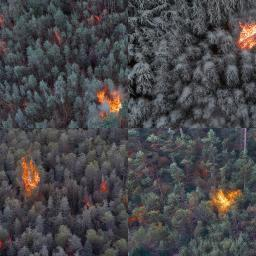Small fire: (207, 178, 249, 220), (96, 80, 133, 115), (19, 155, 44, 192), (236, 21, 256, 60)
